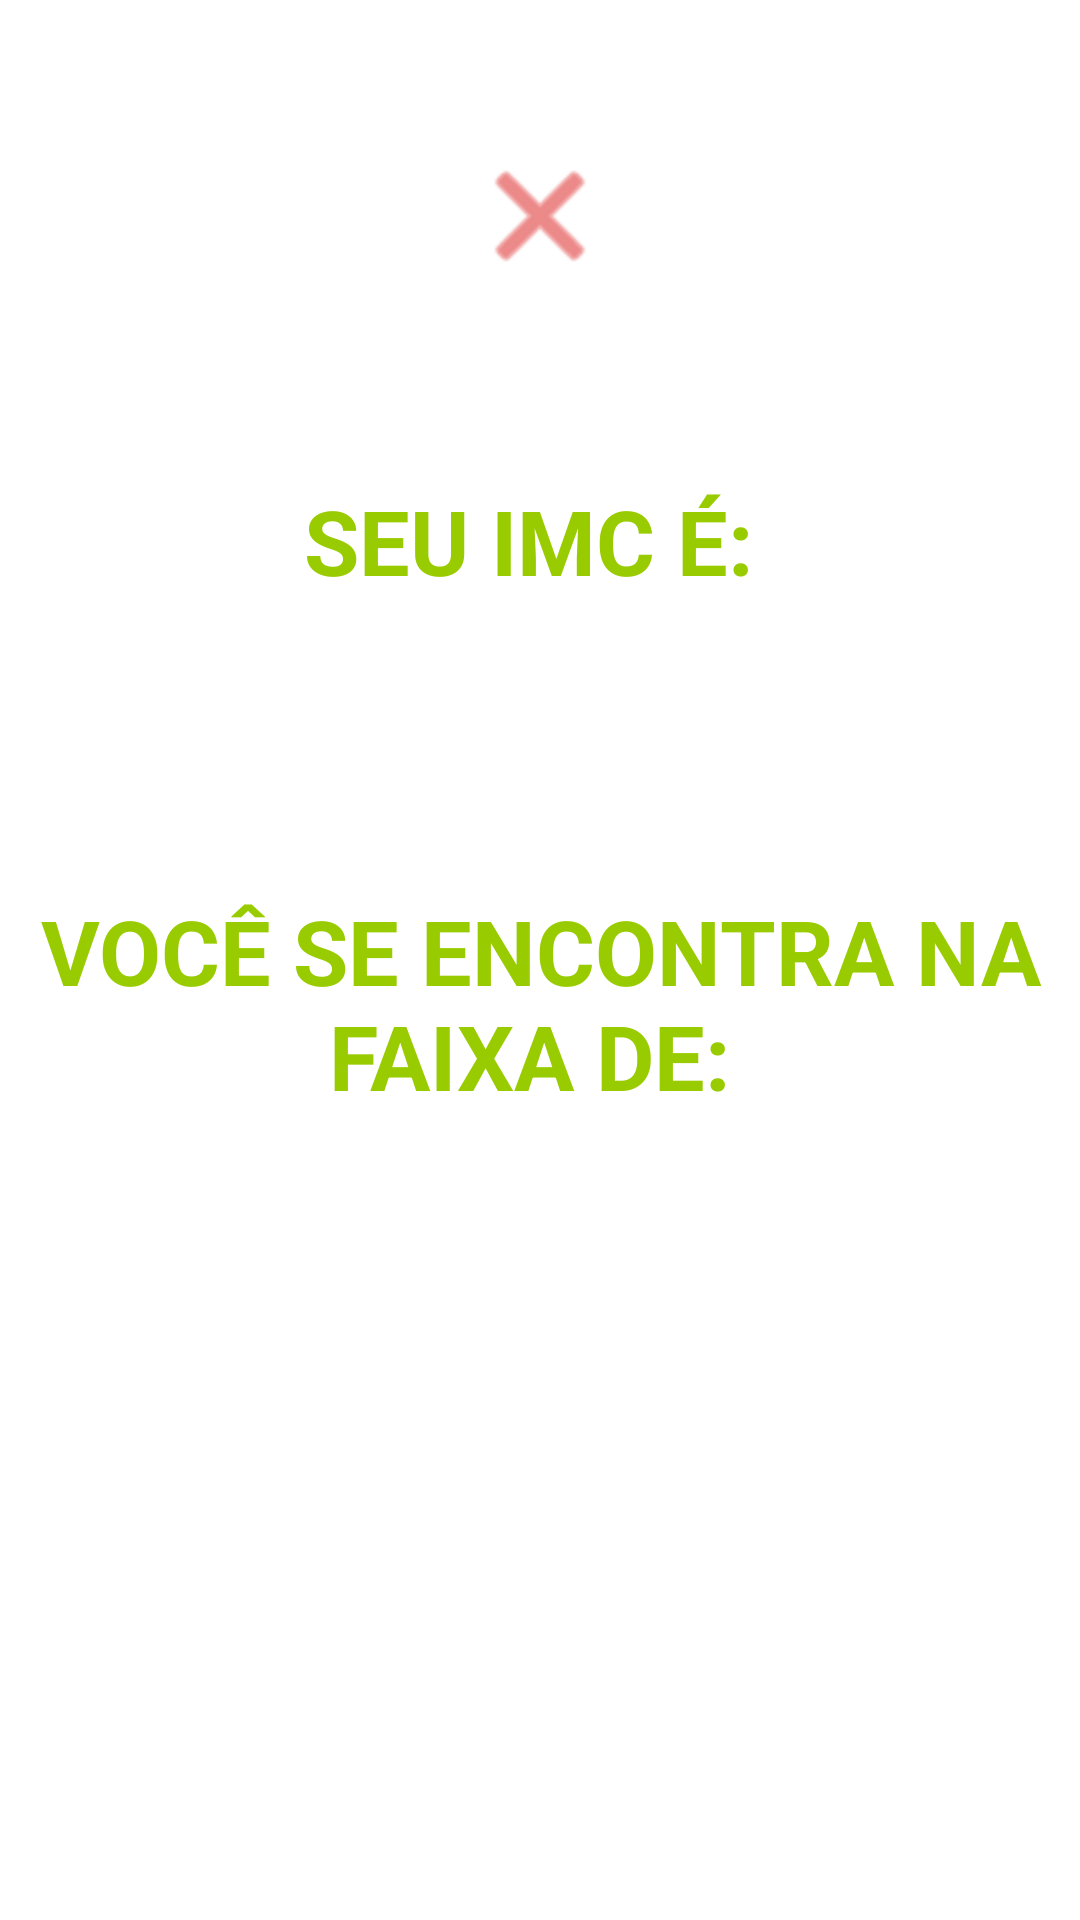

Icons on this 1080w x 1920h Android screen, each with the point to tap as (x=x, y=y):
close clear cancel: (x=540, y=216)
